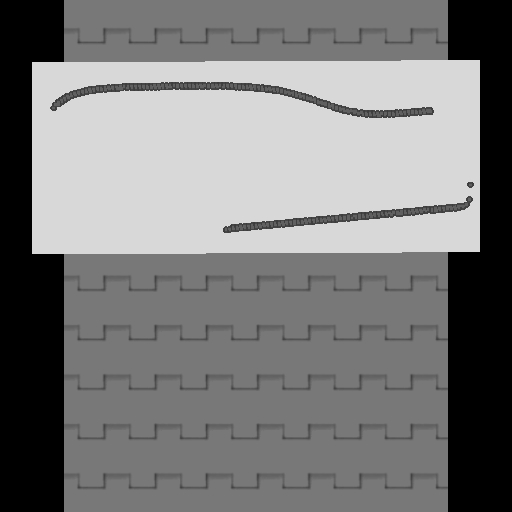Defect: (45, 106, 223, 240)
